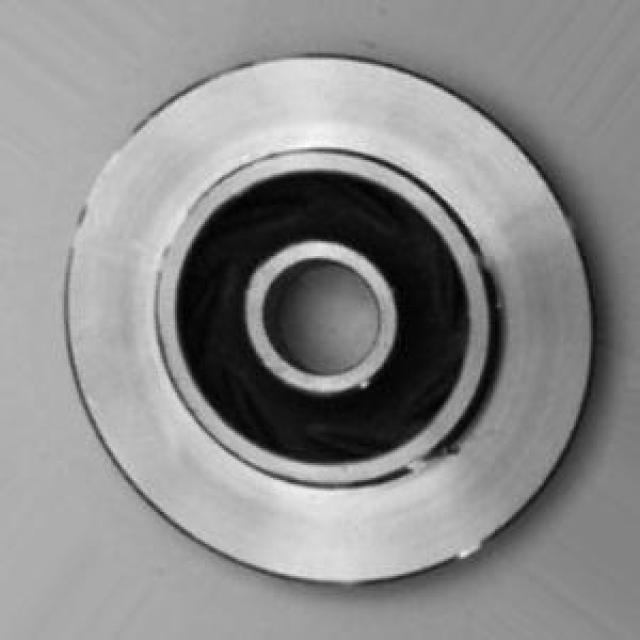Defect: (407, 446, 432, 486)
